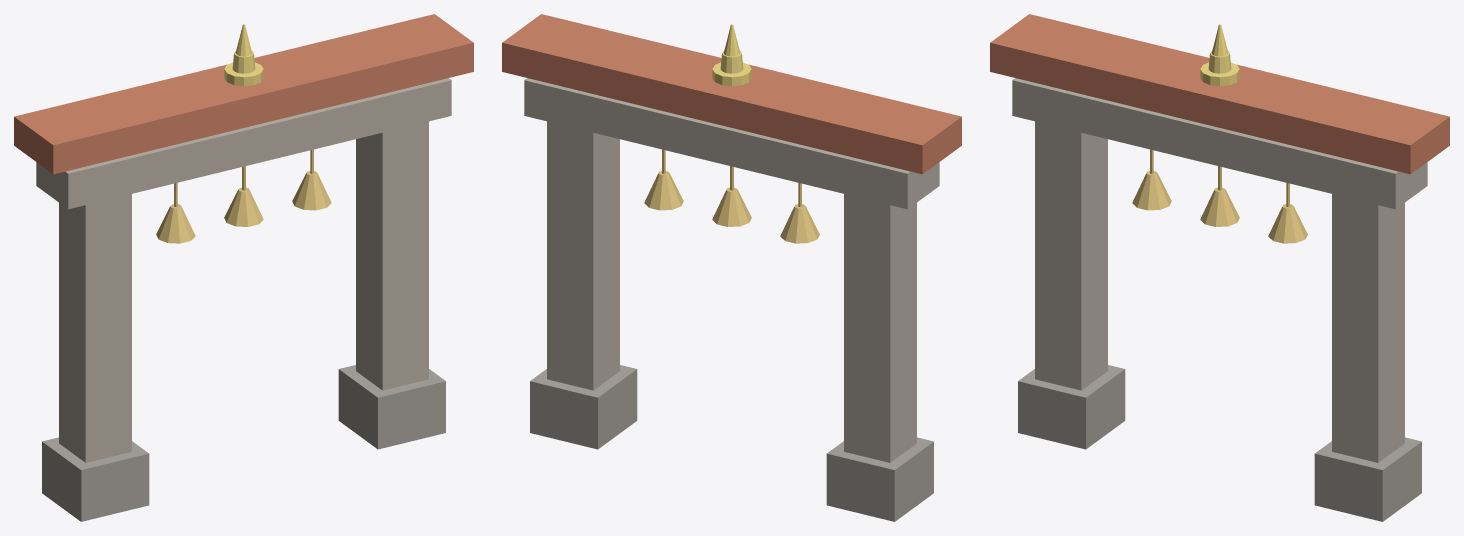
File: torana_gate.glb
3 views of the same model, side by side, from view 1: azimuth 30°, elevation 25°; view 2: azimuth 150°, elevation 25°; view 3: azimuth 330°, elevation 25° (orthographic).
Parts seen in each view (by area): view 1: torana_gate; view 2: torana_gate; view 3: torana_gate.
Boxes of the visible parts, <box> form: torana_gate: <box>14,14,473,521</box>; torana_gate: <box>502,14,961,521</box>; torana_gate: <box>990,14,1449,521</box>.
Size of the model in its own units: 6.8 by 6.78 by 1.1.
